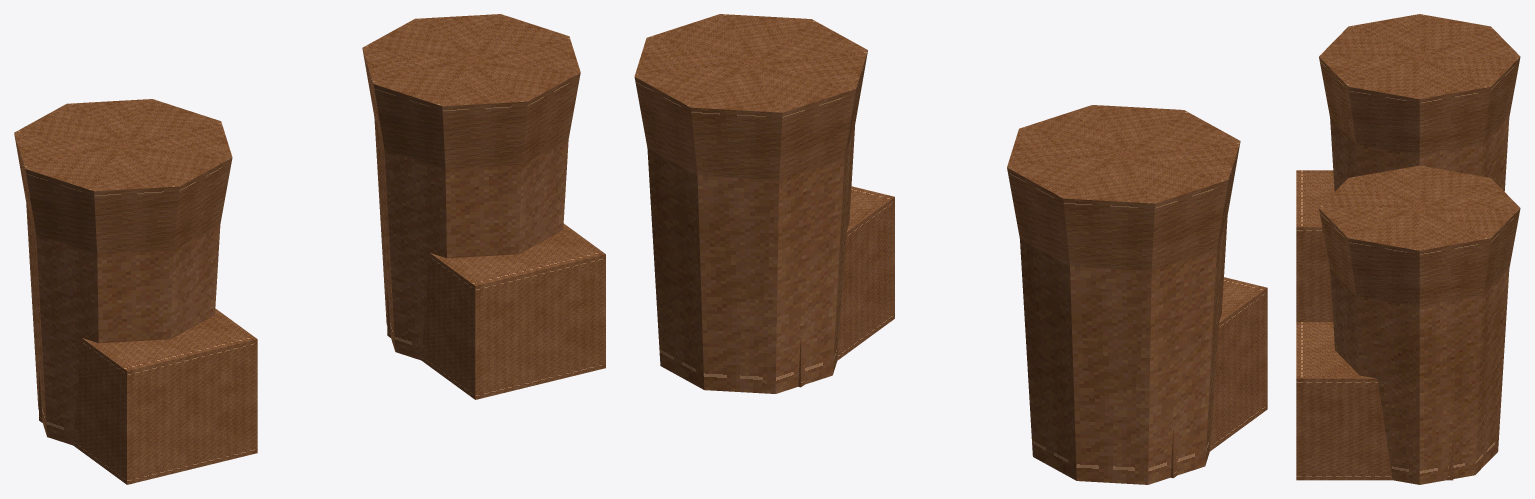
Rendered from luvas_de_couro.glb.
3 renders of one model, left to right at view 1: azimuth 30°, elevation 25°; view 2: azimuth 150°, elevation 25°; view 3: azimuth 270°, elevation 25°, orthographic. The views are drawn at different scales.
Parts seen in each view (by area): view 1: luvas_de_couro; view 2: luvas_de_couro; view 3: luvas_de_couro.
Part boxes in pixels (x1,y1,x2,y2): luvas_de_couro: (14, 14, 605, 484); luvas_de_couro: (634, 14, 1267, 484); luvas_de_couro: (1296, 14, 1520, 484).
Bounding box in the file's own units: 0.5 × 0.24 × 0.2.
Materials: 1 (1 with a texture image).
